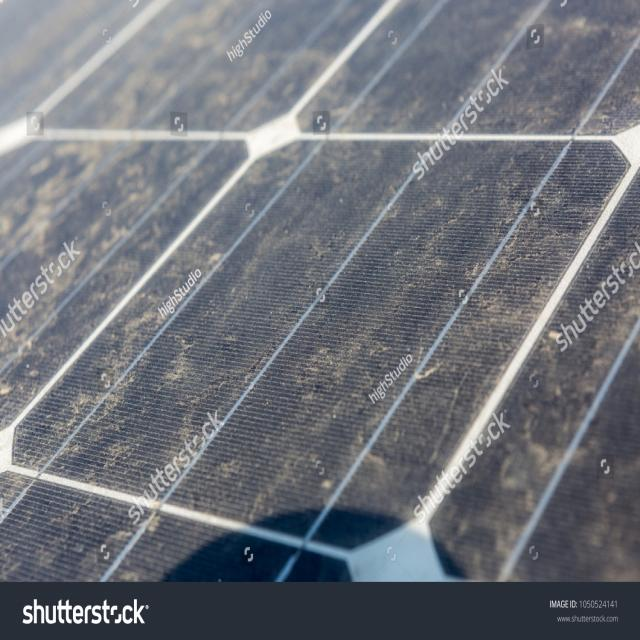faulty: (0, 8, 640, 582)
